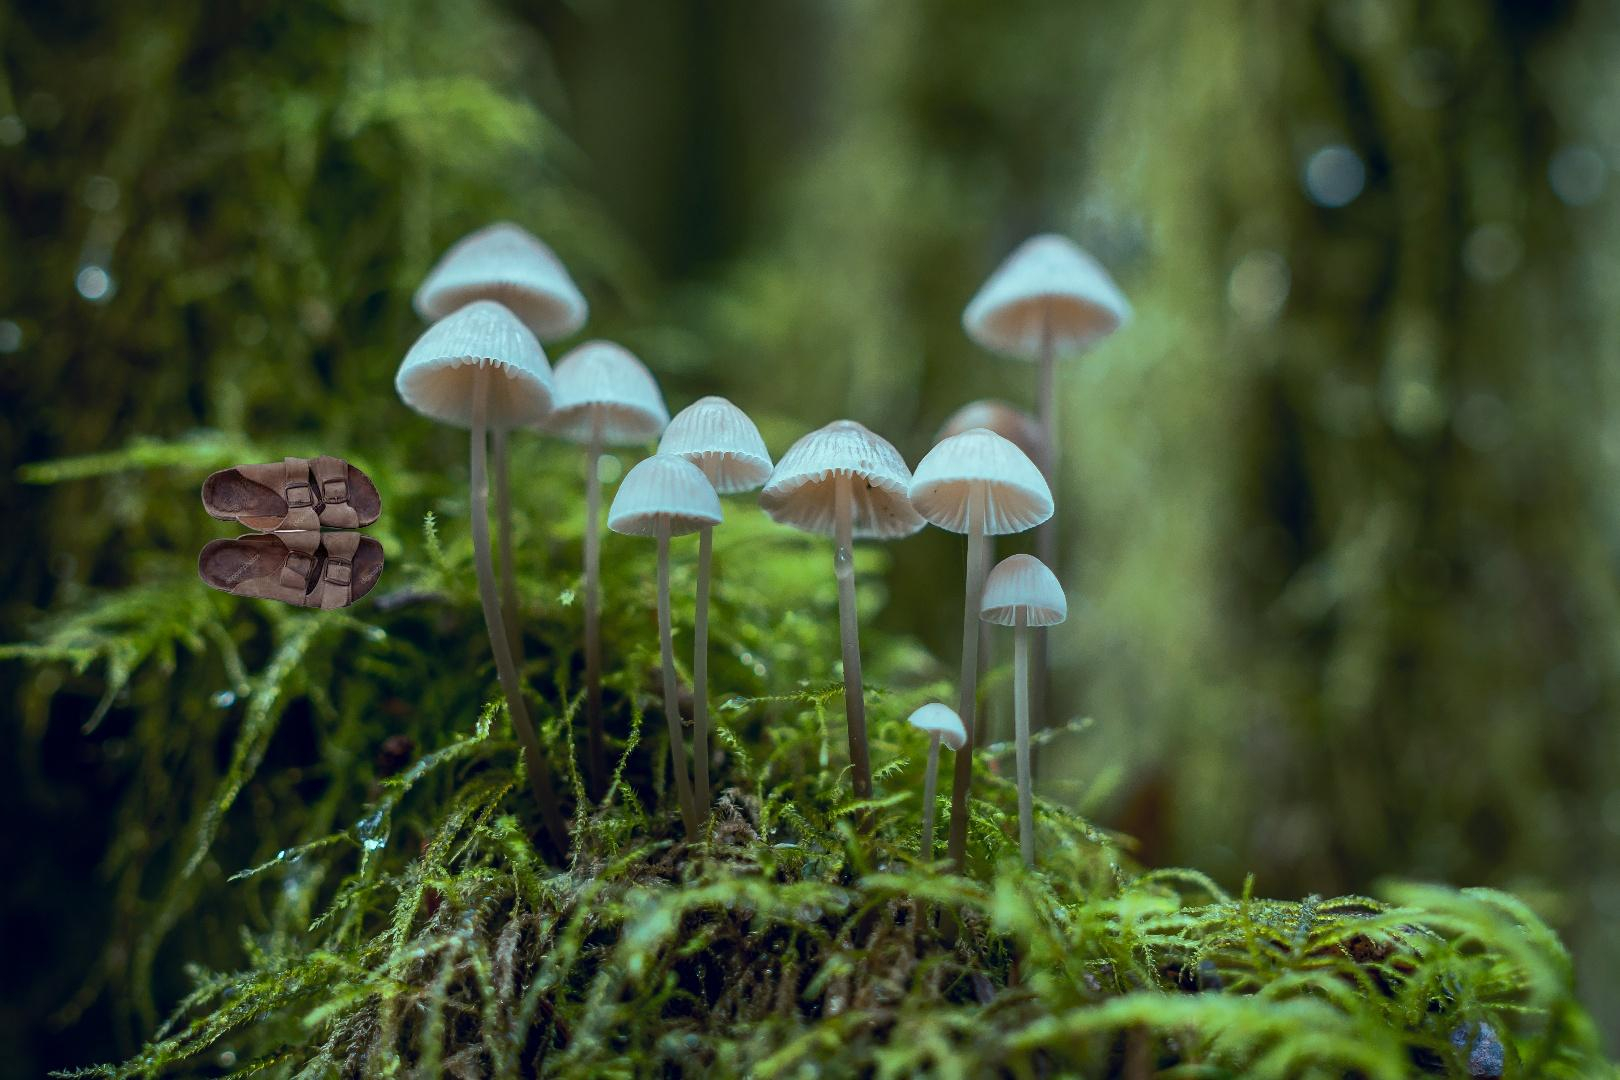shoes: (195, 450, 387, 617)
